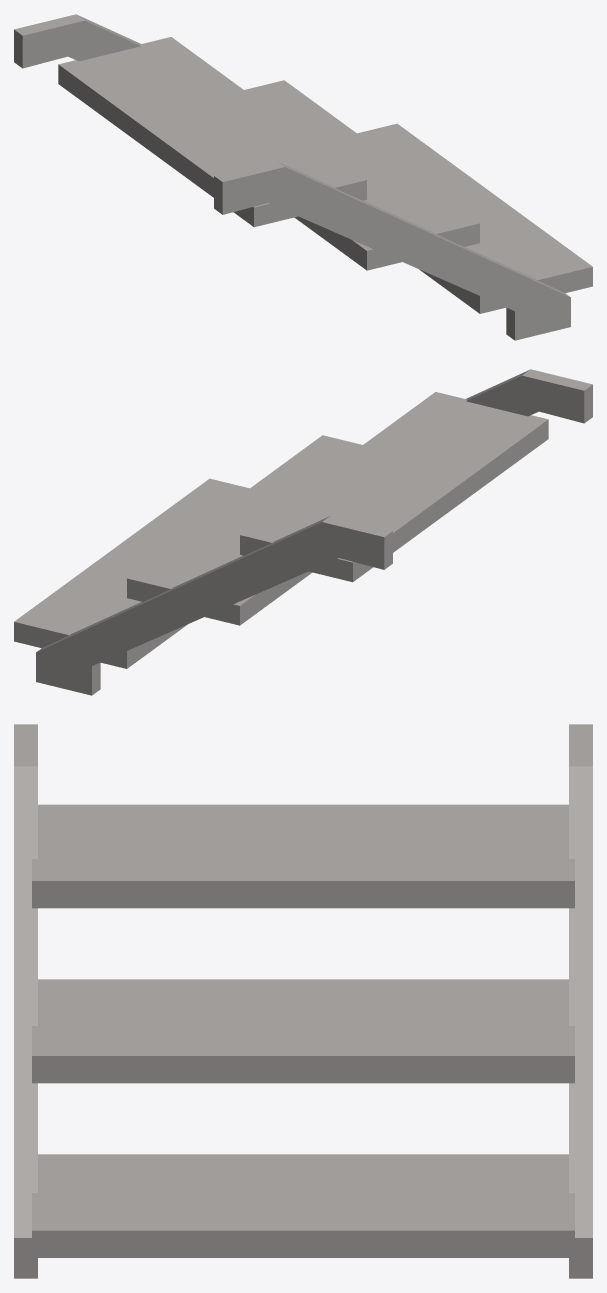
The model's file is SM_Props_Desert_MobileHome_Steps_02.fbx.
3 views of the same model, one above another, from view 1: azimuth 30°, elevation 25°; view 2: azimuth 150°, elevation 25°; view 3: azimuth 270°, elevation 25° (orthographic). The views are drawn at different scales.
Parts seen in each view (by area): view 1: SM_Props_Desert_MobileHome_Steps_02; view 2: SM_Props_Desert_MobileHome_Steps_02; view 3: SM_Props_Desert_MobileHome_Steps_02.
Part boxes in pixels (x1,y1,x2,y2): SM_Props_Desert_MobileHome_Steps_02: (14,14,592,340); SM_Props_Desert_MobileHome_Steps_02: (14,369,592,695); SM_Props_Desert_MobileHome_Steps_02: (14,724,592,1278).
Size of the model in its own units: 100 by 58.31 by 96.
